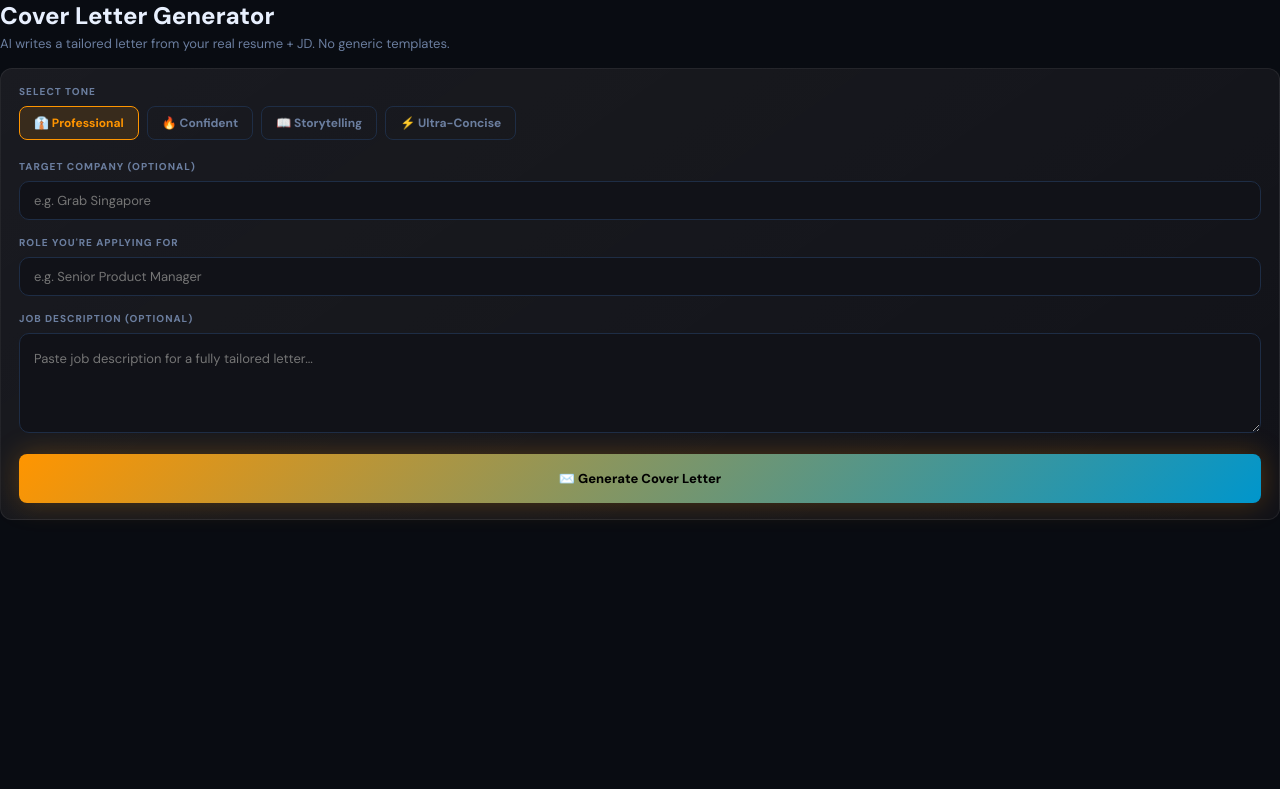
Test: a tone rewrite that claims more than the letter did › applies the rewrite and warns, and the warning follows that tone only
Step 1. Type "Senior PM" into the field named "Role" → (640,276), box [19,257,1261,296]
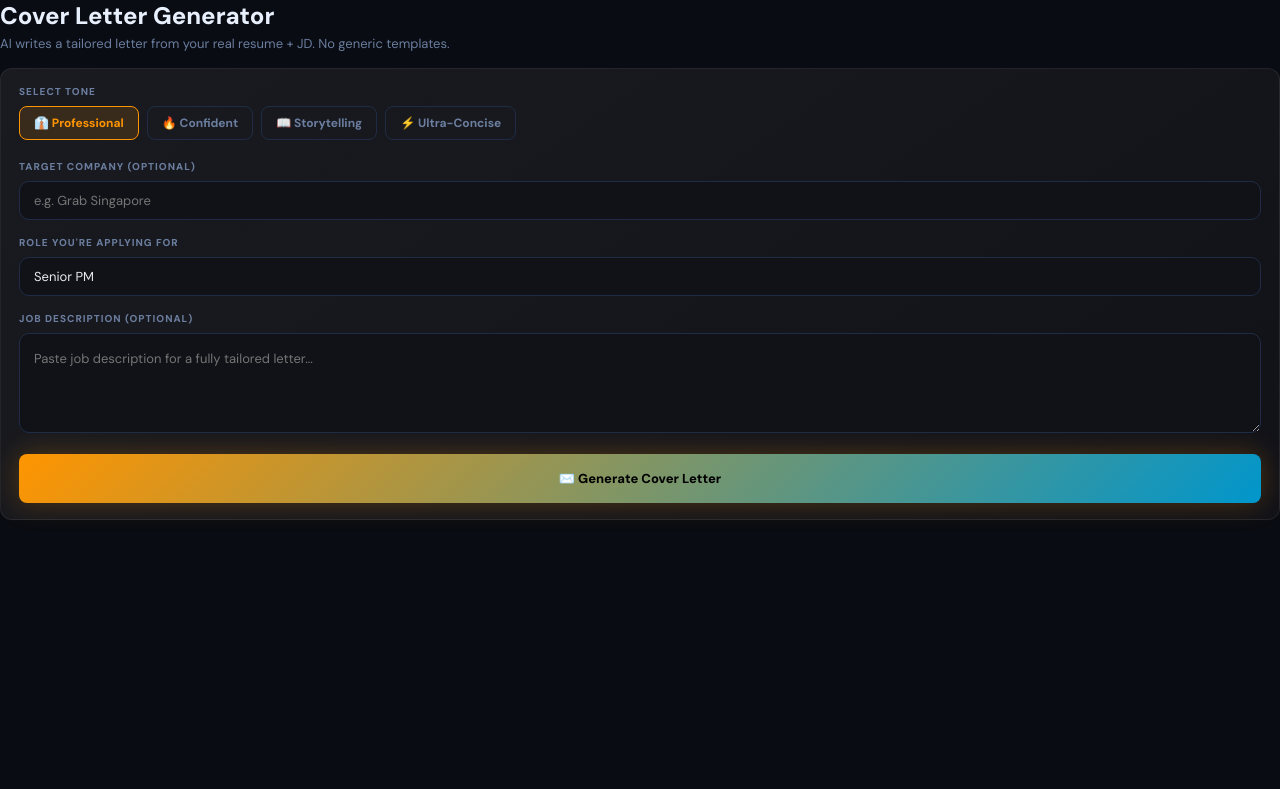
Step 2. Type "UNIQUE-JD-MARKER needs a PM." into the text box labelled "job description" → (640,383), box [19,333,1261,433]
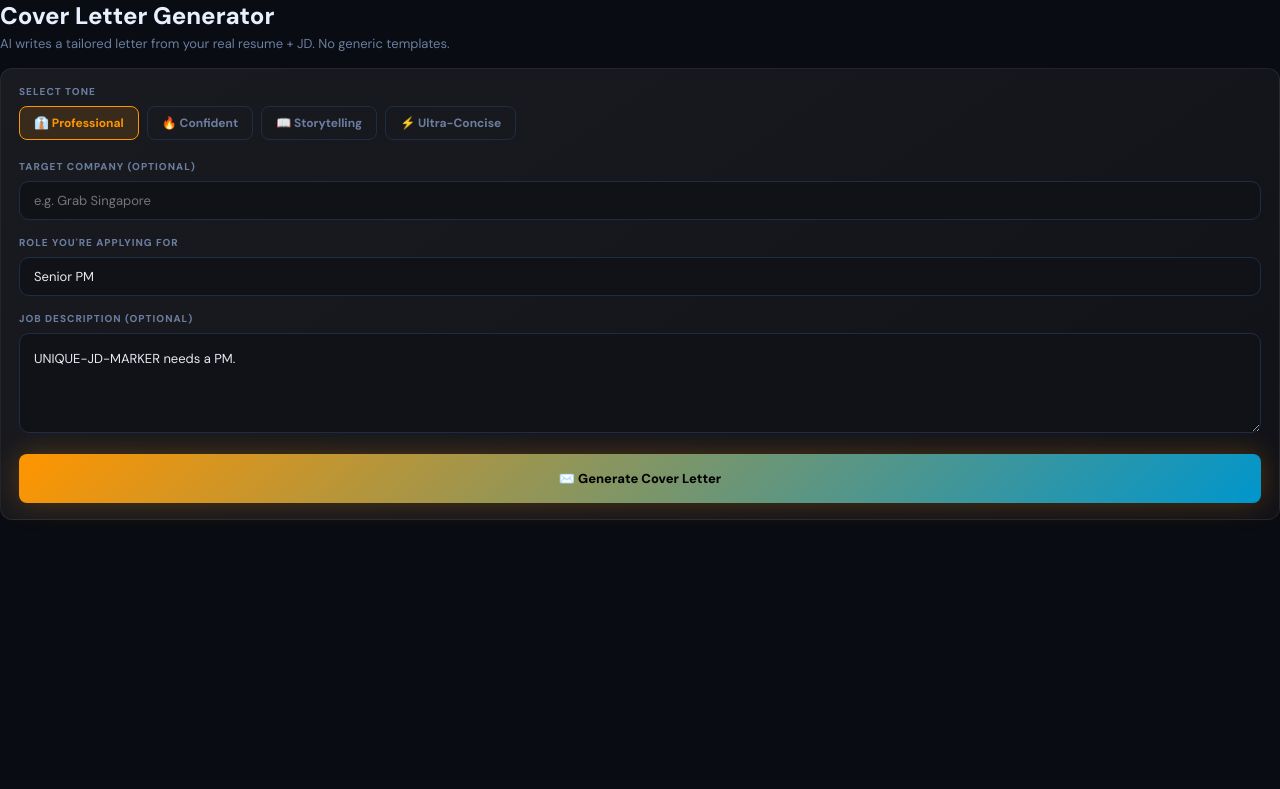
Step 3. Click the button "✉️ Generate Cover Letter" → (640,478), box [19,454,1261,503]
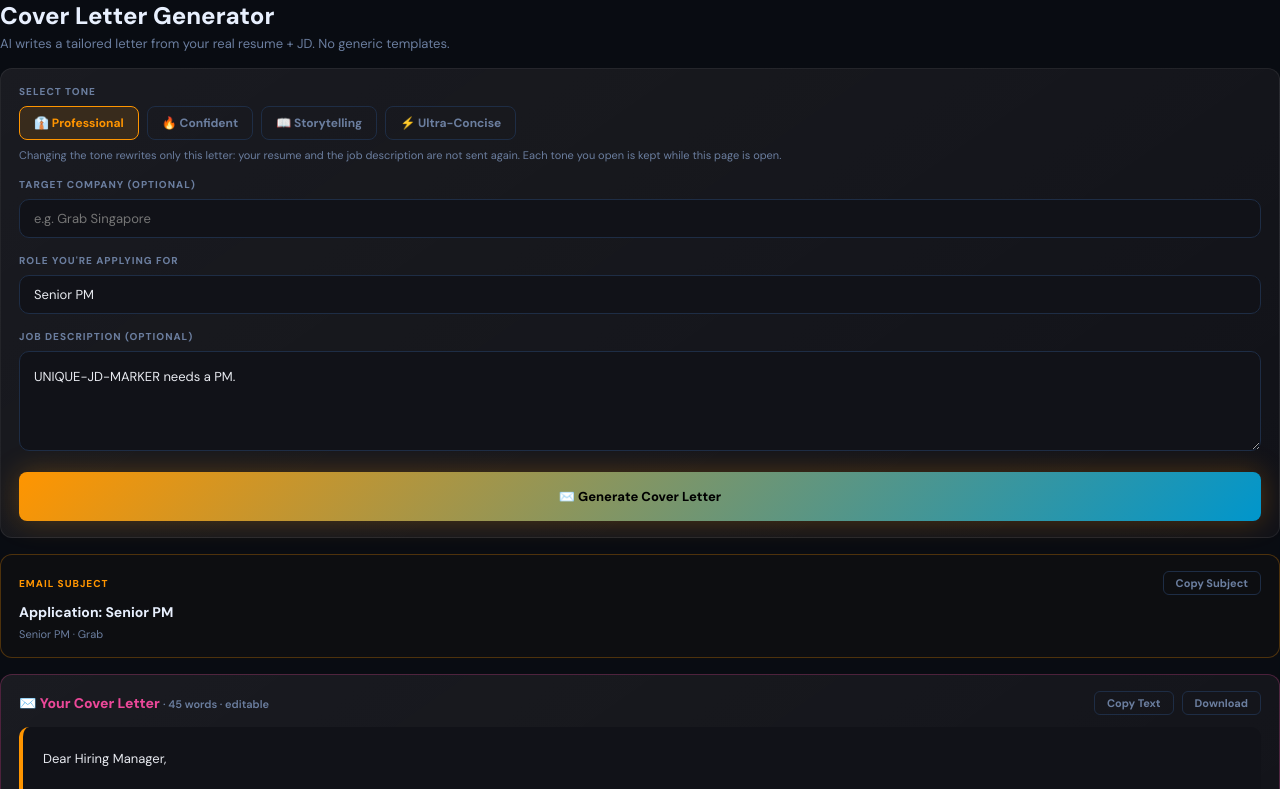
Step 4. Click the button "🔥 Confident" → (200,123), box [147,106,253,140]
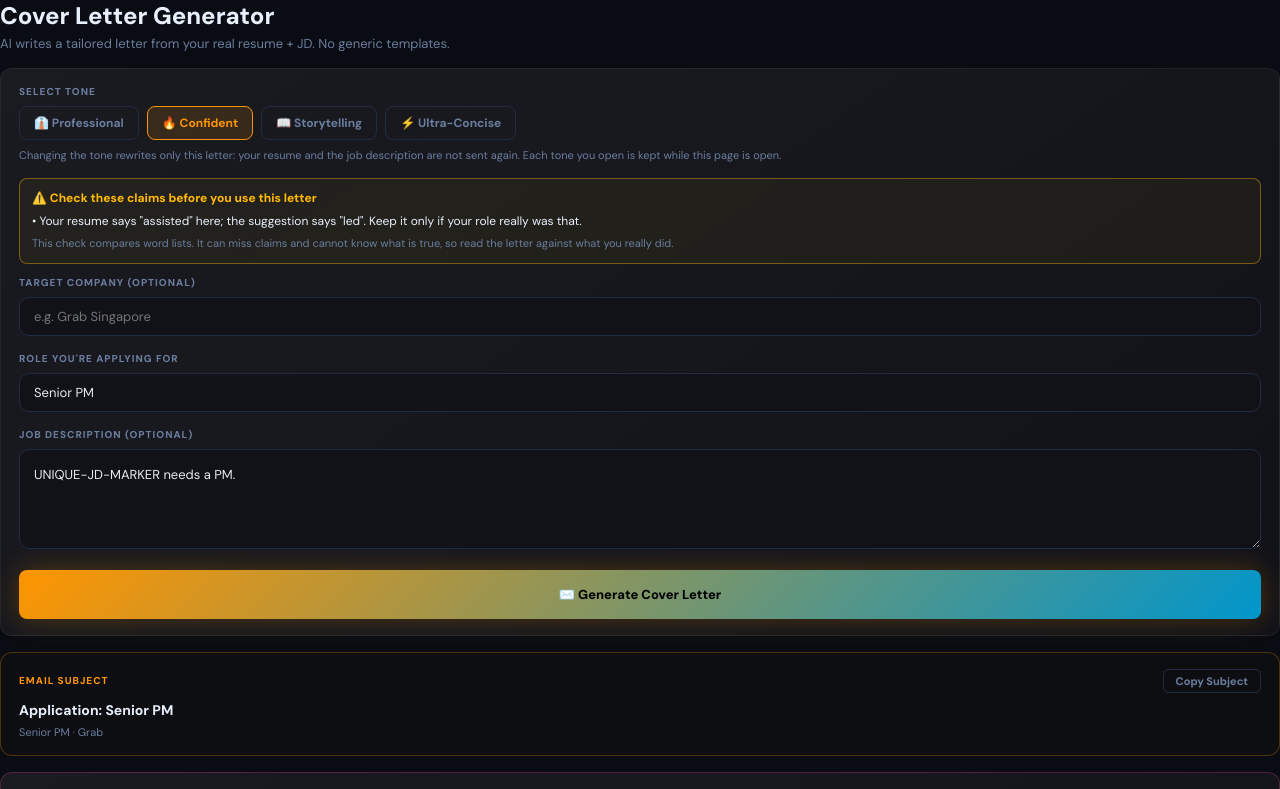
expect the text "Check these claims before you use this letter" shows "led": met, box [40,213,582,229]
Step 5. Click the button "👔 Professional" → (79,123), box [19,106,139,140]
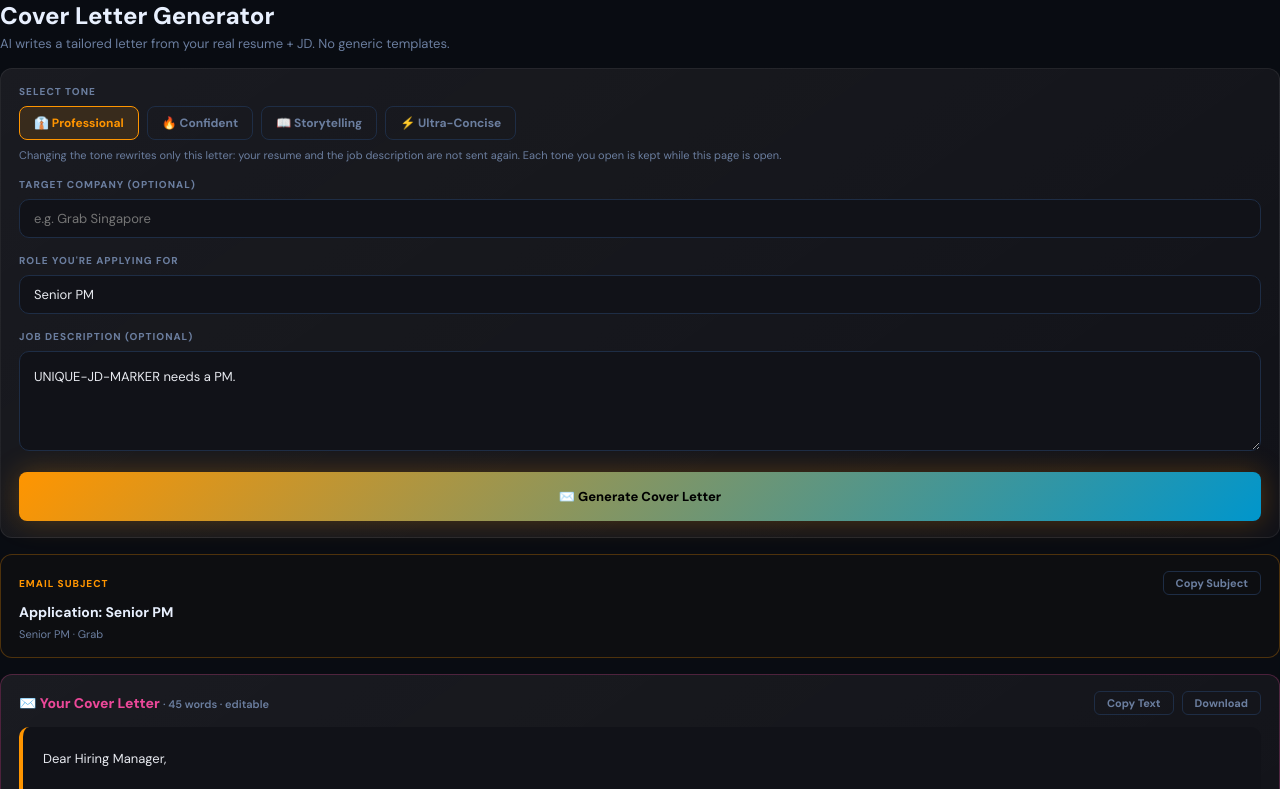
expect the text "Check these claims before you use this letter" is gone: met
Step 6. Click the button "🔥 Confident" → (200,123), box [147,106,253,140]
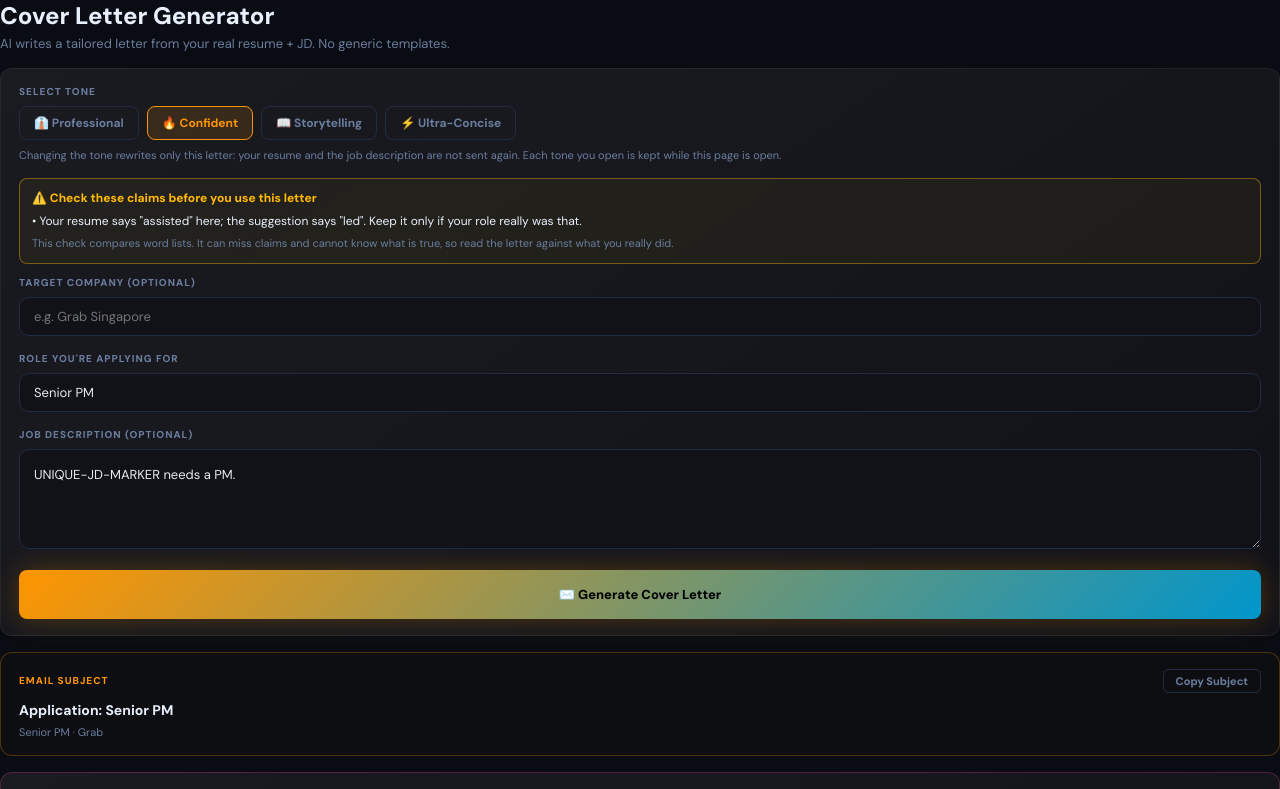
expect the text "⚠️ Check these claims before you use this letter" is shown: met, box [32,190,317,206]
